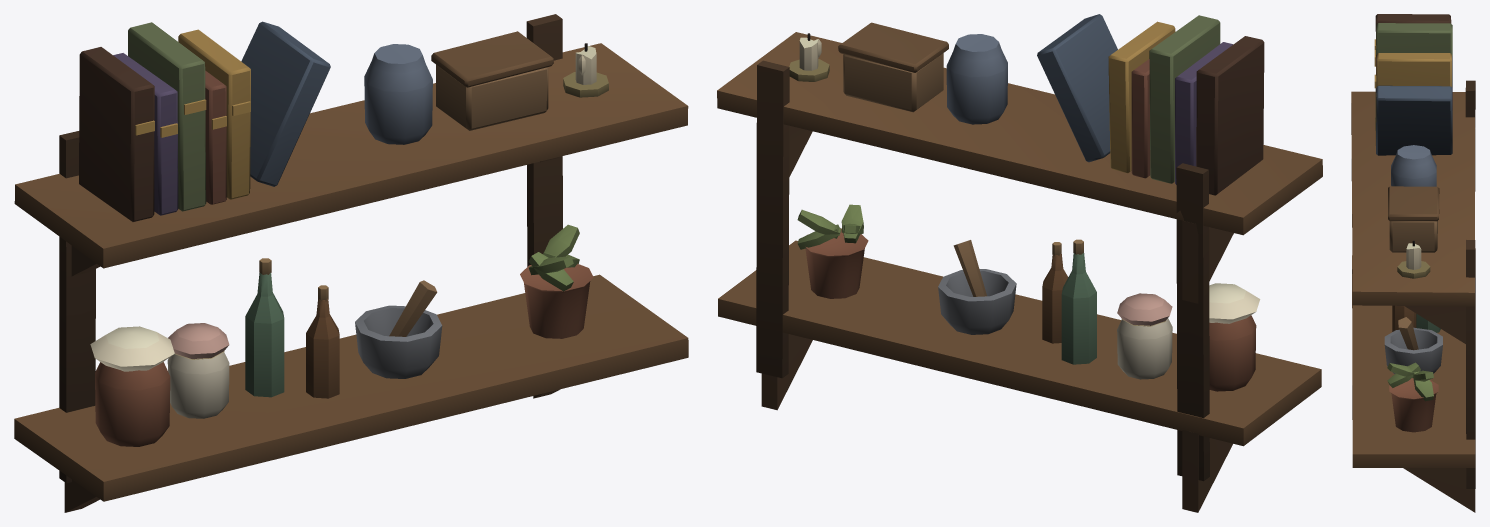
The model's file is ph_int_shelf.glb.
3 renders of one model, left to right at view 1: azimuth 30°, elevation 25°; view 2: azimuth 150°, elevation 25°; view 3: azimuth 270°, elevation 25°, orthographic. The views are drawn at different scales.
Parts seen in each view (by area): view 1: ph_int_shelf; view 2: ph_int_shelf; view 3: ph_int_shelf.
Boxes of the visible parts, x1=… form: ph_int_shelf: x1=14, y1=14, x2=688, y2=512; ph_int_shelf: x1=717, y1=14, x2=1322, y2=512; ph_int_shelf: x1=1351, y1=14, x2=1475, y2=512.
Size of the model in its own units: 1 by 0.7943 by 0.2633.
